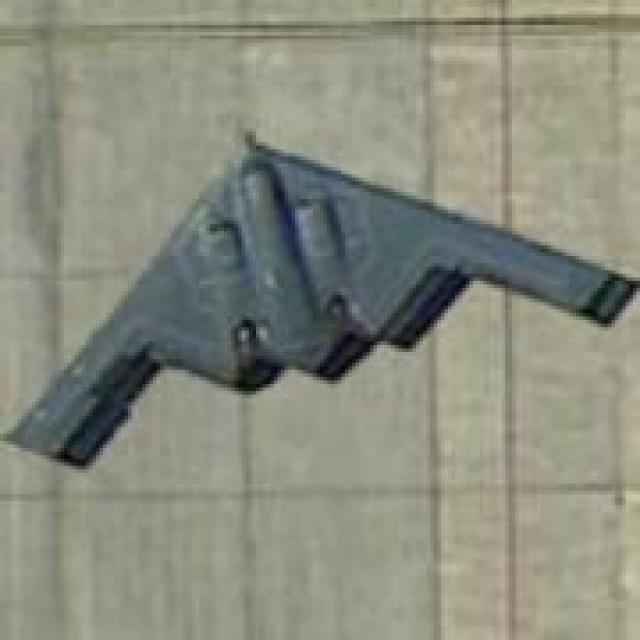B-2_TopDown: (0, 124, 636, 472)
